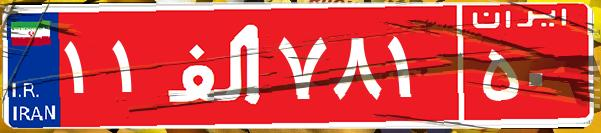0: (525, 38, 570, 115)
1: (385, 28, 445, 110), (57, 26, 110, 107), (110, 28, 158, 105)
5: (475, 38, 525, 113)
7: (273, 28, 330, 110)
8: (330, 28, 385, 110)
الف: (158, 15, 273, 115)
